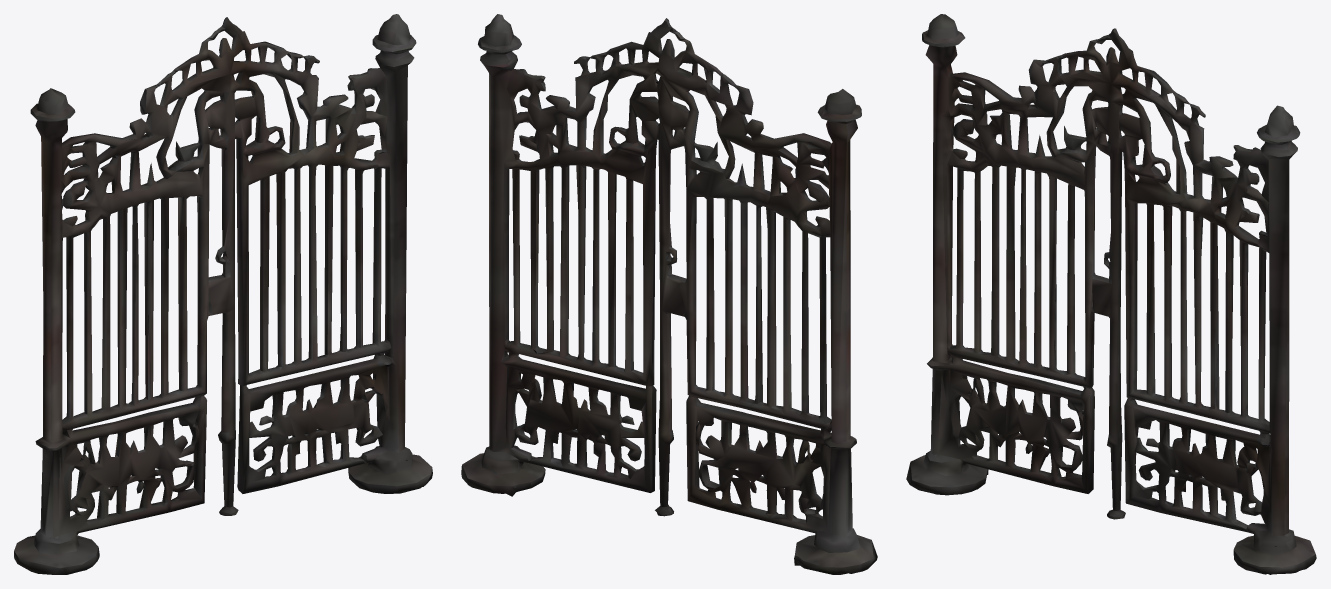
File: sturdy-iron-iron-gate-v001.glb
3 renders of one model, left to right at view 1: azimuth 30°, elevation 25°; view 2: azimuth 150°, elevation 25°; view 3: azimuth 330°, elevation 25°, orthographic.
Parts seen in each view (by area): view 1: sturdy-iron-iron-gate; view 2: sturdy-iron-iron-gate; view 3: sturdy-iron-iron-gate.
Boxes of the visible parts, box(x1,y1,x2,y2) form: sturdy-iron-iron-gate: box(14, 14, 432, 574); sturdy-iron-iron-gate: box(461, 14, 877, 574); sturdy-iron-iron-gate: box(906, 14, 1316, 574).
Size of the model in its own units: 2.43 by 2.87 by 0.4358.
Materials: 1 (1 with a texture image).
